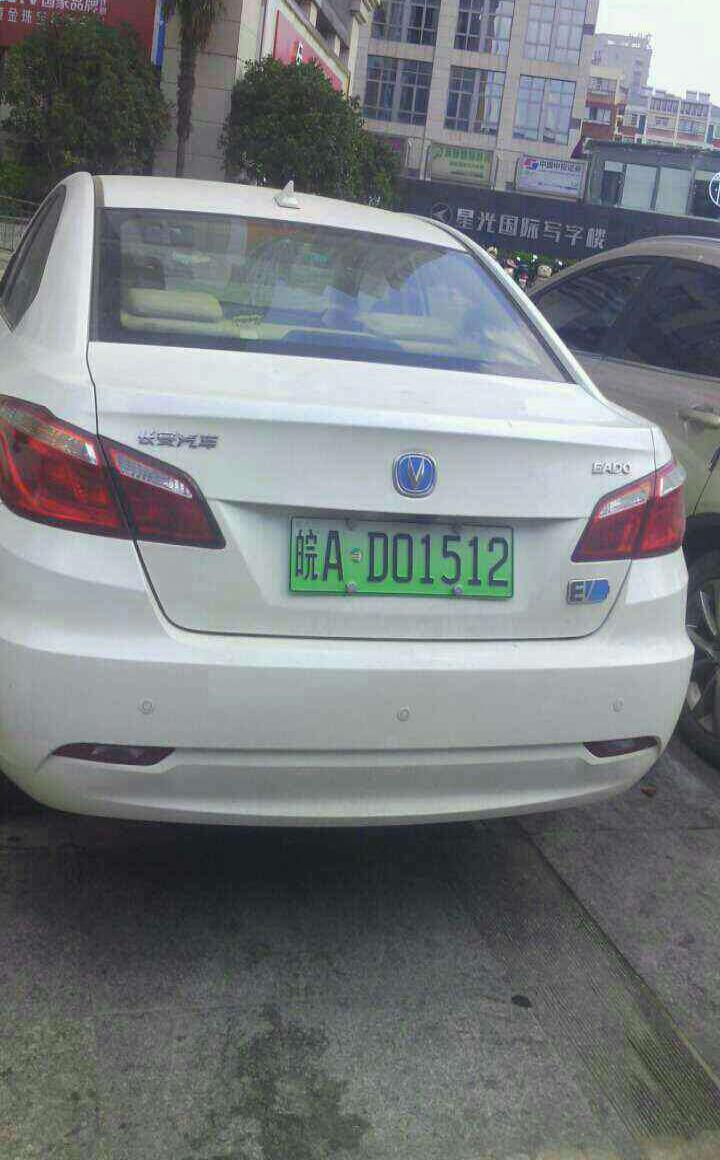car_id: (289, 517, 515, 605)
